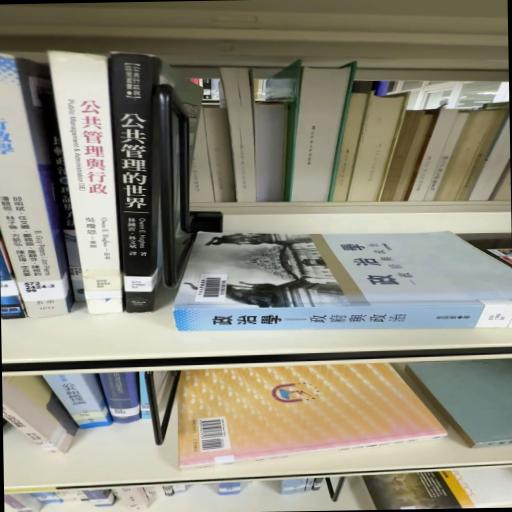flat: (174, 232, 512, 333), (167, 364, 457, 473)
